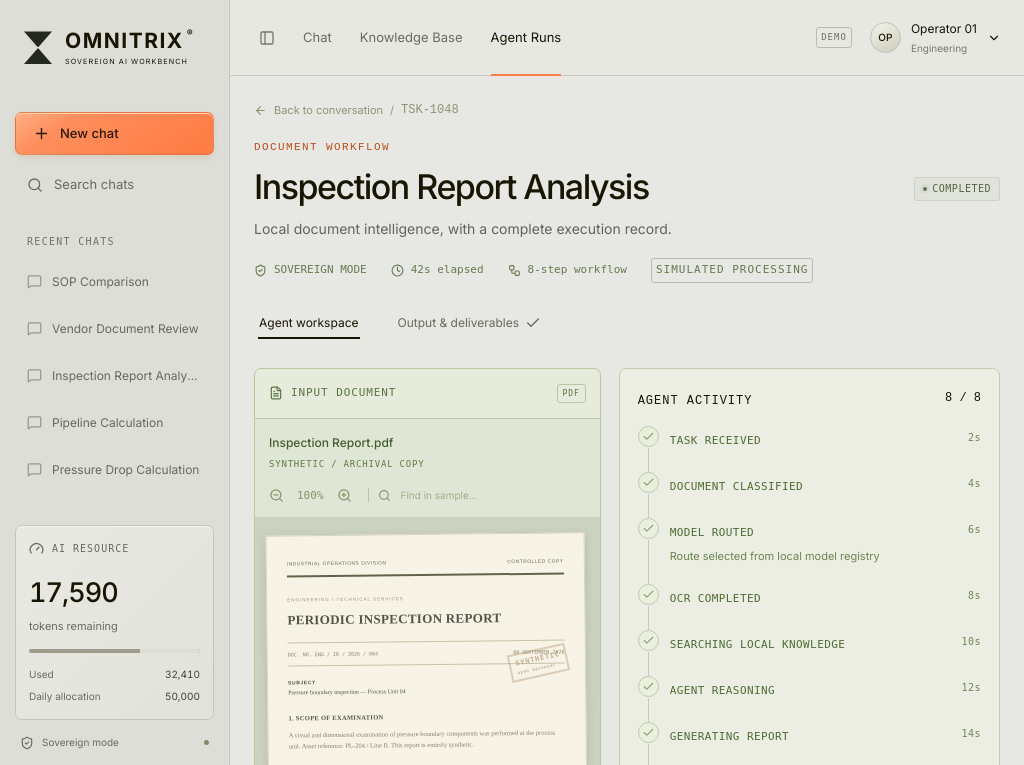
Test: rendered routes and primary controls › switches a completed document workflow to the output view
Check: the heading "Inspection Report Analysis" is shown, box 254,166 -> 672,208
Click the tab "Output & deliverables" at (469, 322), box 396,310 -> 543,335
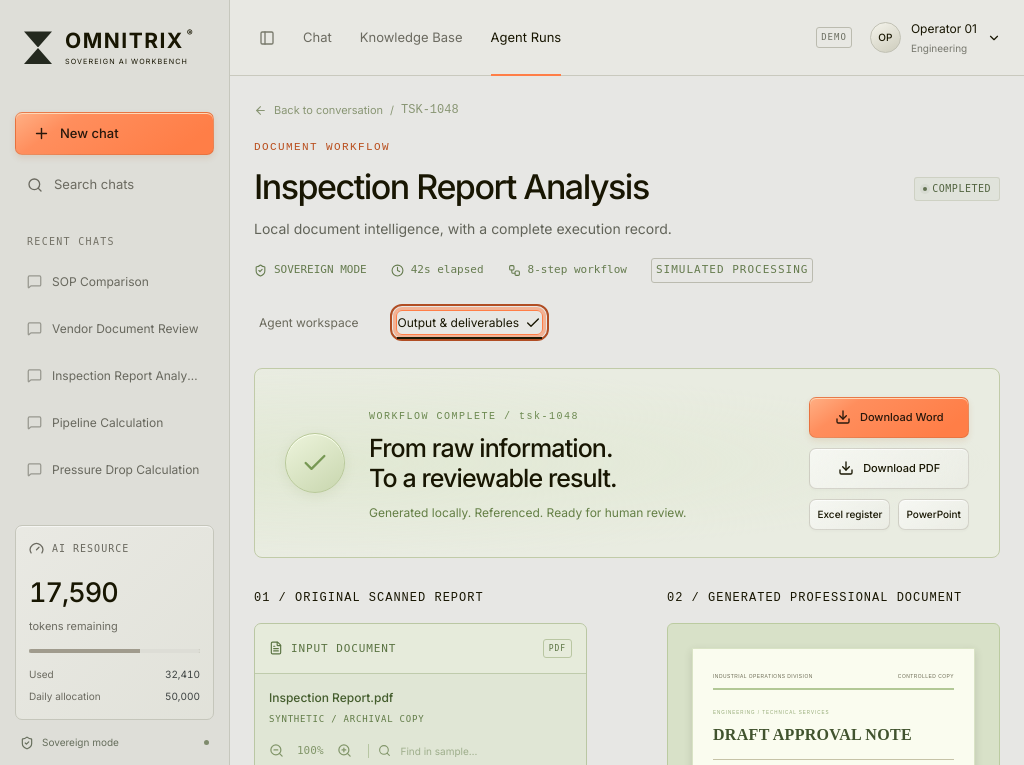
Check: the button "Download Word" is shown, box 810,396 -> 969,438
Check: the button "Download PDF" is shown, box 810,448 -> 969,488
